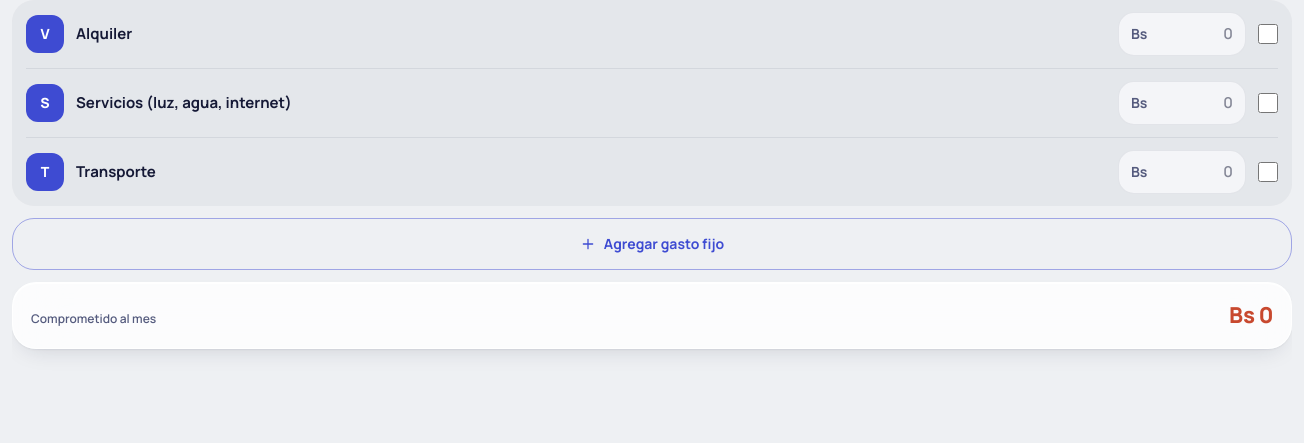
Scenario: step fields › BUG-021 like the app: the amount checks the row, asks how often and when, and adds up
Type "1.500" into the field named "Monto de Alquiler". click: (1193, 34)
box: [1153,23,1233,45]
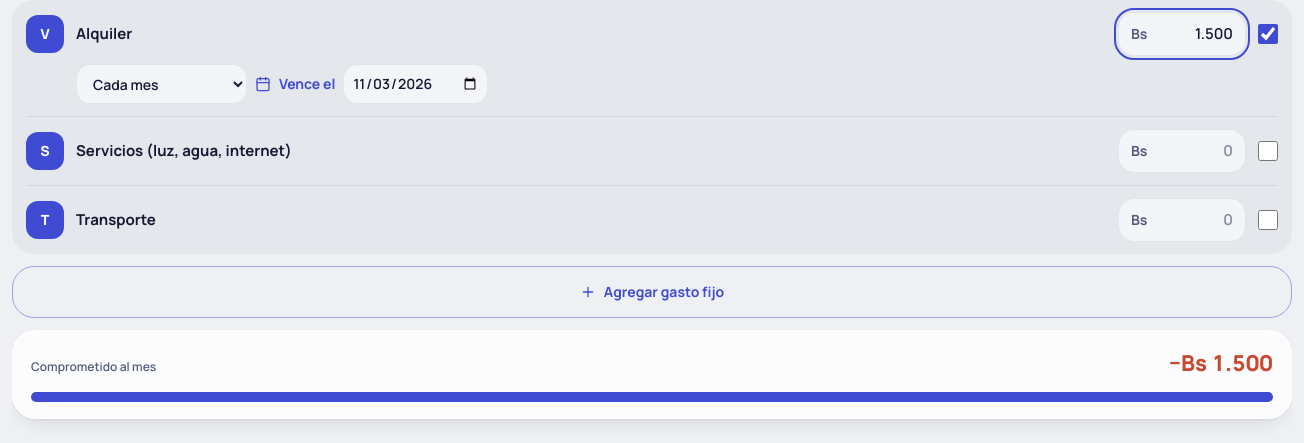
Expected: the checkbox named "Alquiler" is checked
Expected: the dropdown named "Cada cuánto se paga Alquiler" is shown, [76,64,247,104]
Expected: the text "Vence el" is shown, [279,74,335,94]
Note: Desmarcado no se guarda, aunque tenga monto.
Click the checkbox named "Alquiler". click: (1268, 34)
box: [1258,24,1278,44]
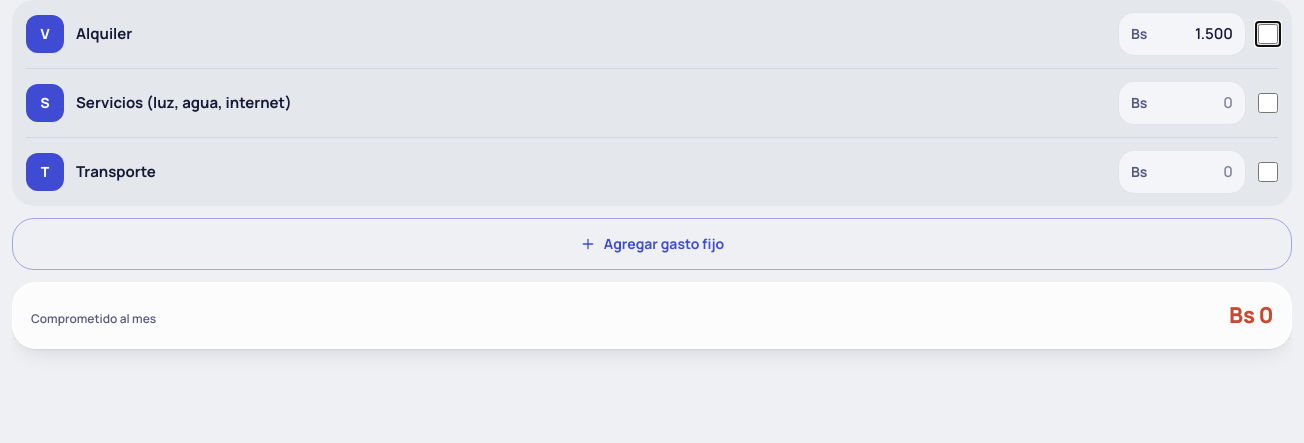
Expected: the element with test id "expenses-committed" shows "Bs 0", [12,282,1292,349]
